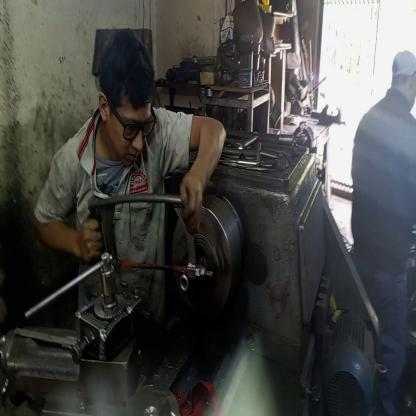lentes: (107, 97, 157, 144)
